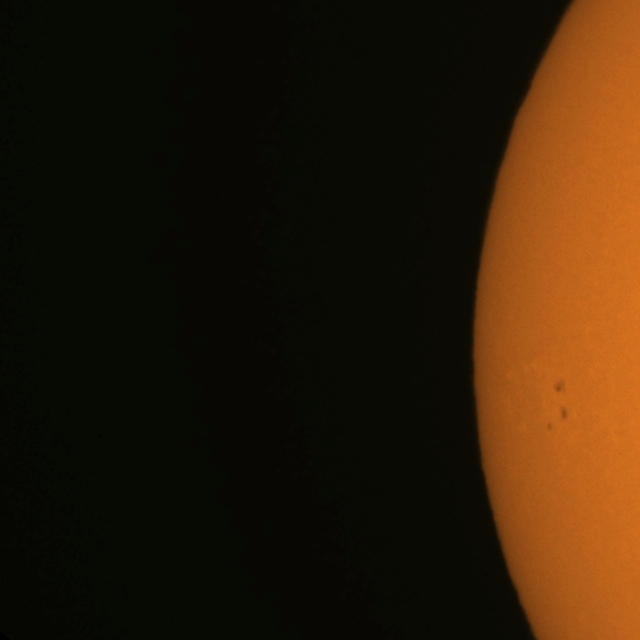sunspot: (553, 378, 567, 395), (559, 404, 569, 422), (545, 421, 554, 432)
